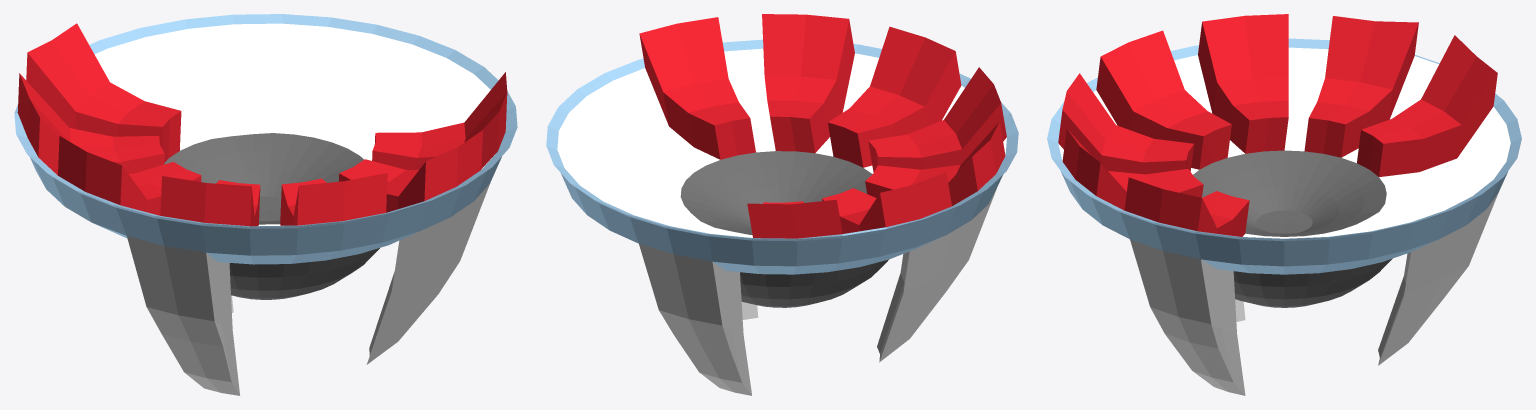
File: sblue.glb
3 renders of one model, left to right at view 1: azimuth 30°, elevation 25°; view 2: azimuth 150°, elevation 25°; view 3: azimuth 270°, elevation 25°, orthographic. The views are drawn at different scales.
Parts seen in each view (by area): view 1: spaceship blue.003; view 2: spaceship blue.003; view 3: spaceship blue.003.
Part boxes in pixels (left/top/right/bottom): spaceship blue.003: left=14, top=14, right=517, bottom=395; spaceship blue.003: left=546, top=14, right=1018, bottom=395; spaceship blue.003: left=1047, top=14, right=1521, bottom=395.
Bounding box in the file's own units: 0.8949 × 0.5301 × 0.8949.
